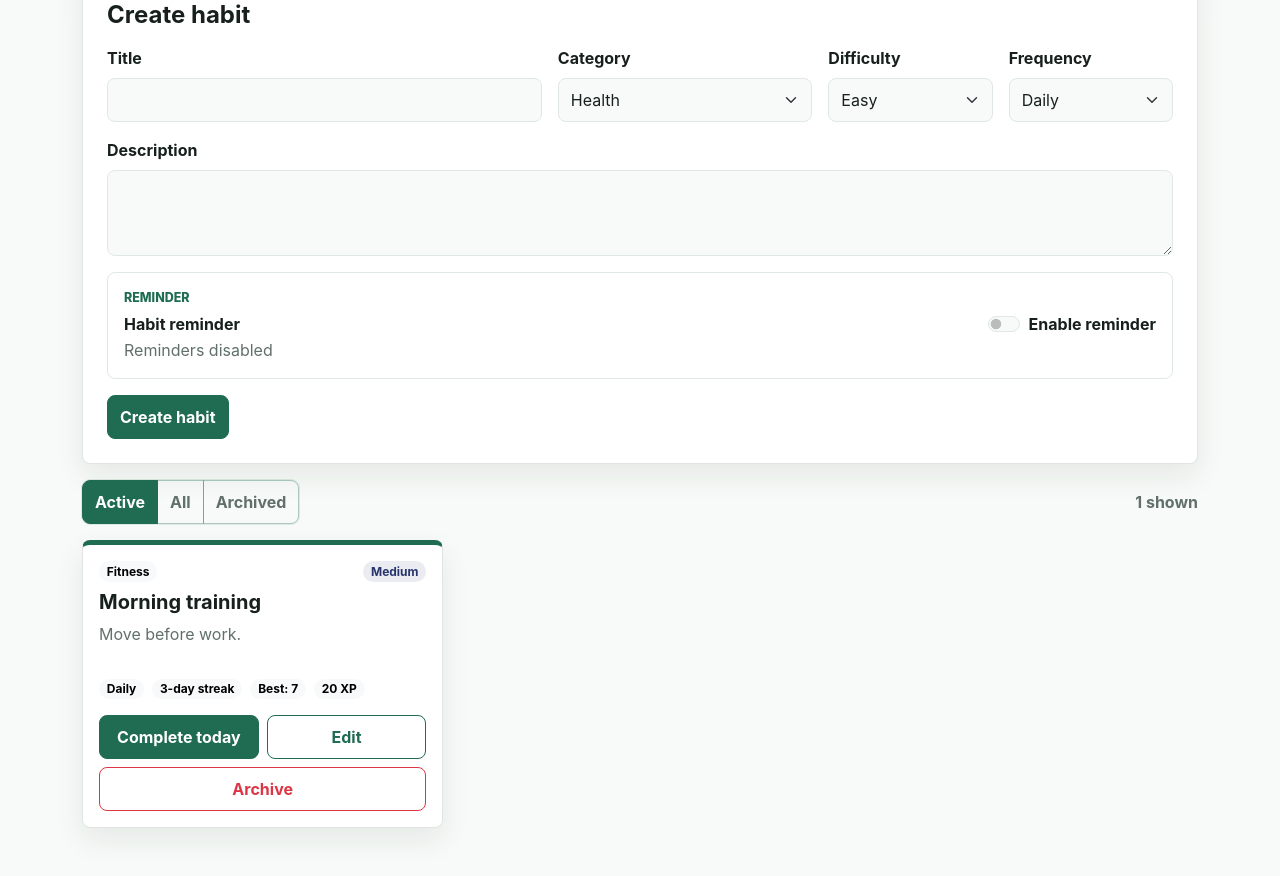
it: Habits API view › archives habits through the API
The width and height of the screenshot is (1280, 876).
(page scrolled)
Click the button "Archive" at (263, 789), box [99,767,426,811]
(page scrolled)
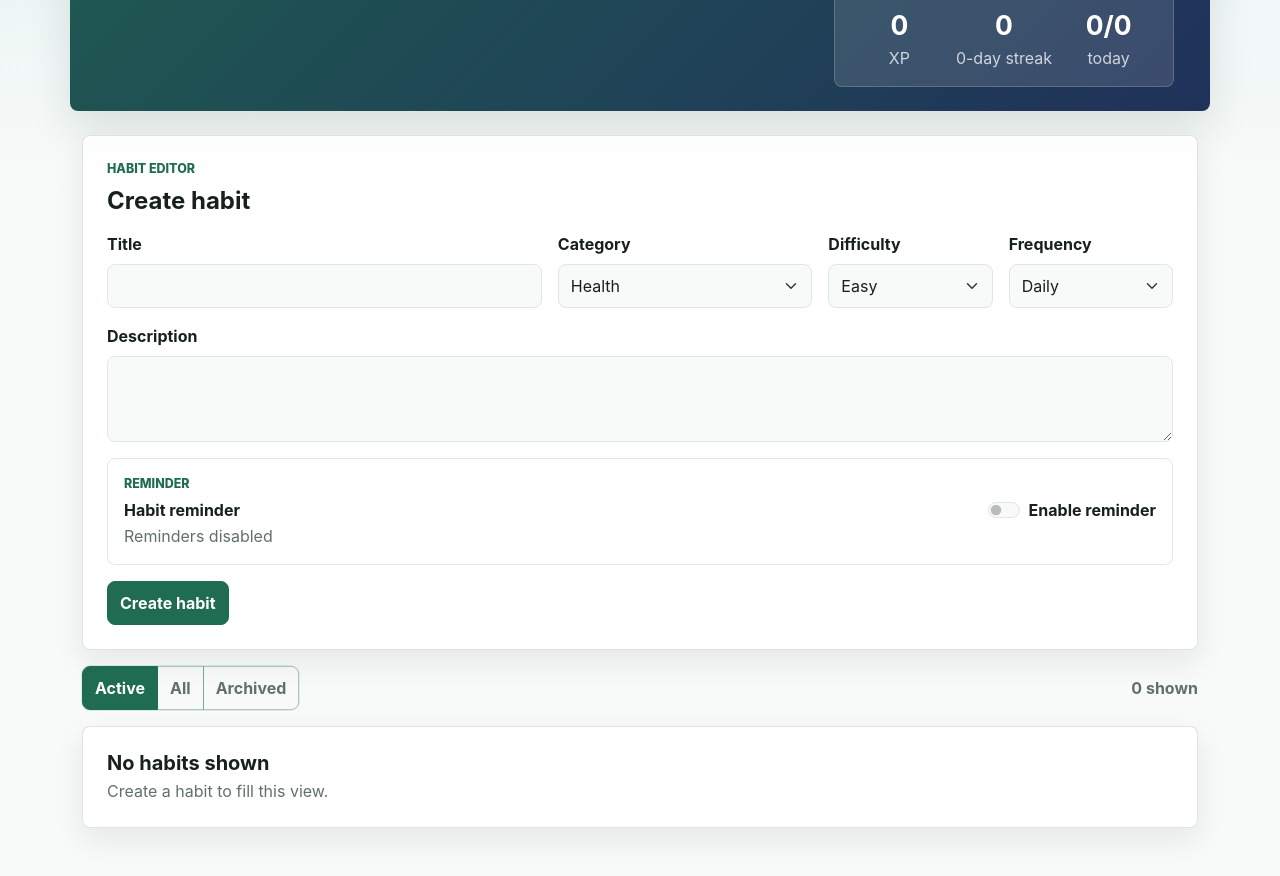
Result: the text "No habits shown" is shown at [107,751,270,775]
